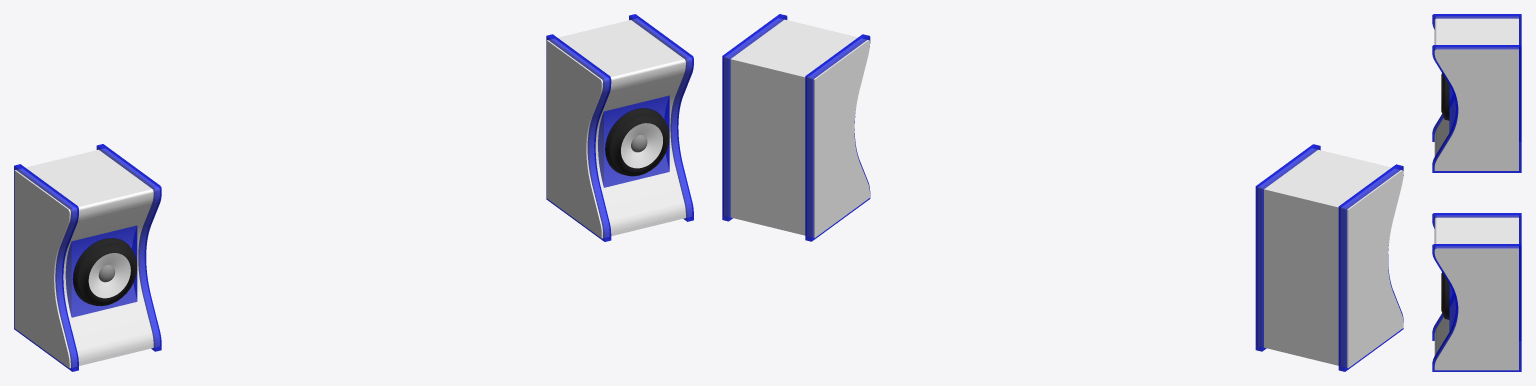
File: speakers.FBX
The picture shows the model from 3 angles, left to right: view 1: azimuth 30°, elevation 25°; view 2: azimuth 150°, elevation 25°; view 3: azimuth 270°, elevation 25°; orthographic projection. The views are drawn at different scales.
Visible parts, largest first — view 1: Speaker002, Speaker001; view 2: Speaker001, Speaker002; view 3: Speaker001, Speaker002.
Part boxes in pixels (x1,y1,x2,y2): Speaker002: (546, 14, 693, 241); Speaker001: (14, 144, 161, 371); Speaker001: (1255, 144, 1403, 371); Speaker002: (722, 14, 870, 241); Speaker001: (1432, 14, 1521, 172); Speaker002: (1432, 213, 1521, 371).
Size of the model in its own units: 569 by 143 by 92.29.
